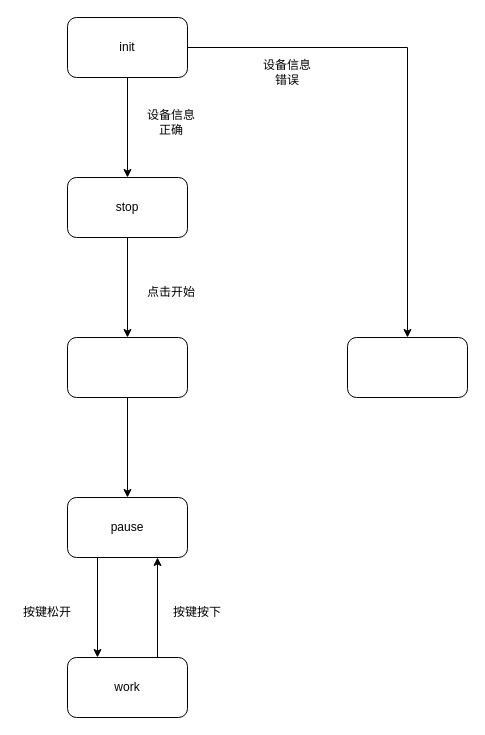
Image size: 485x735. Some labels were removed from this diagram. Each missing label, with the centre of its shape:
"Error" goes at [407,367].
"ready" goes at [127,367].
